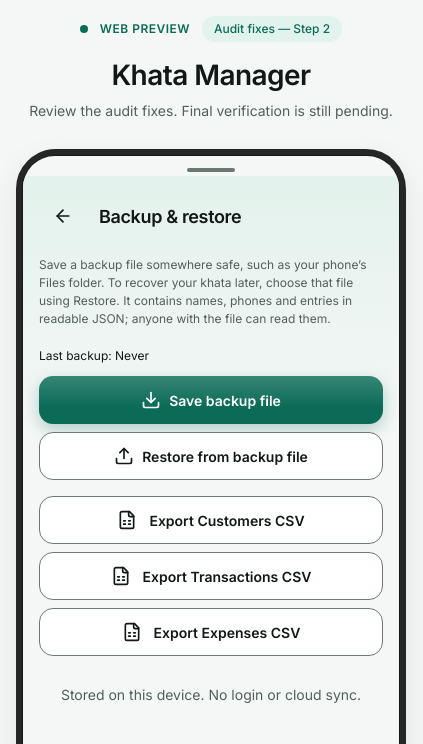
export uses a JSON Blob and a named download
Click the button "Save backup file".
click(211, 400)  # box [39, 376, 383, 424]
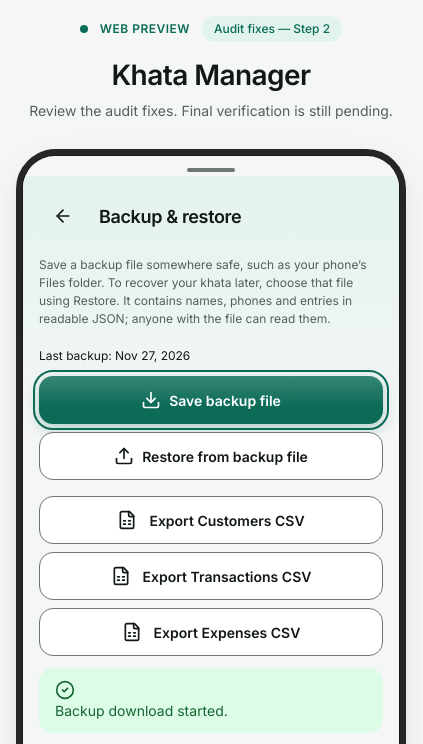
Now the text "Backup download started." is shown, box [55, 702, 228, 719]
